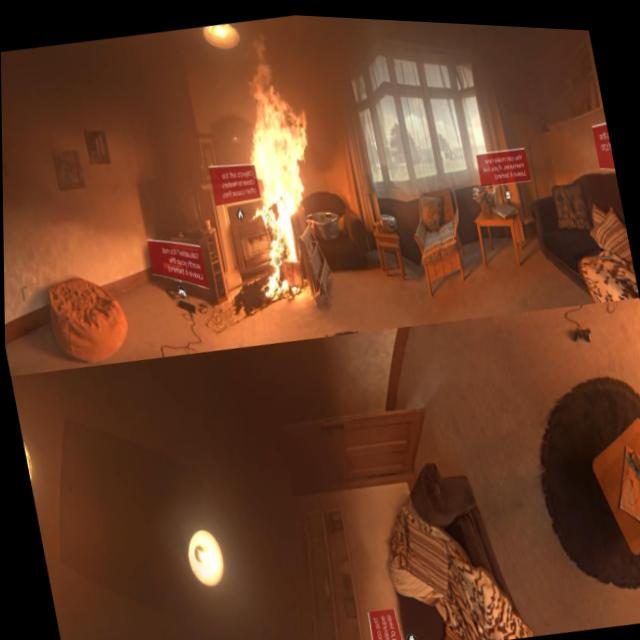fire: (217, 24, 340, 304)
